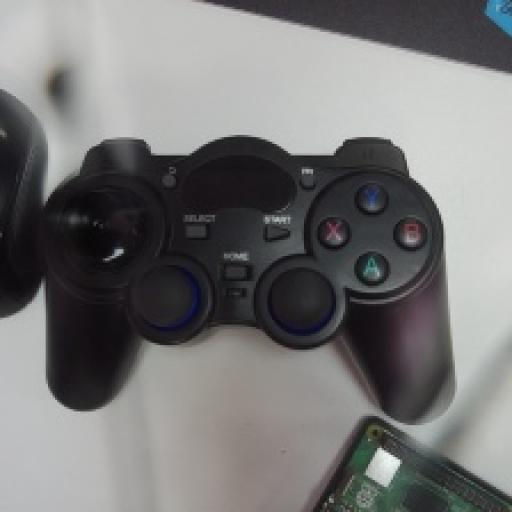game pad: (46, 137, 450, 421)
